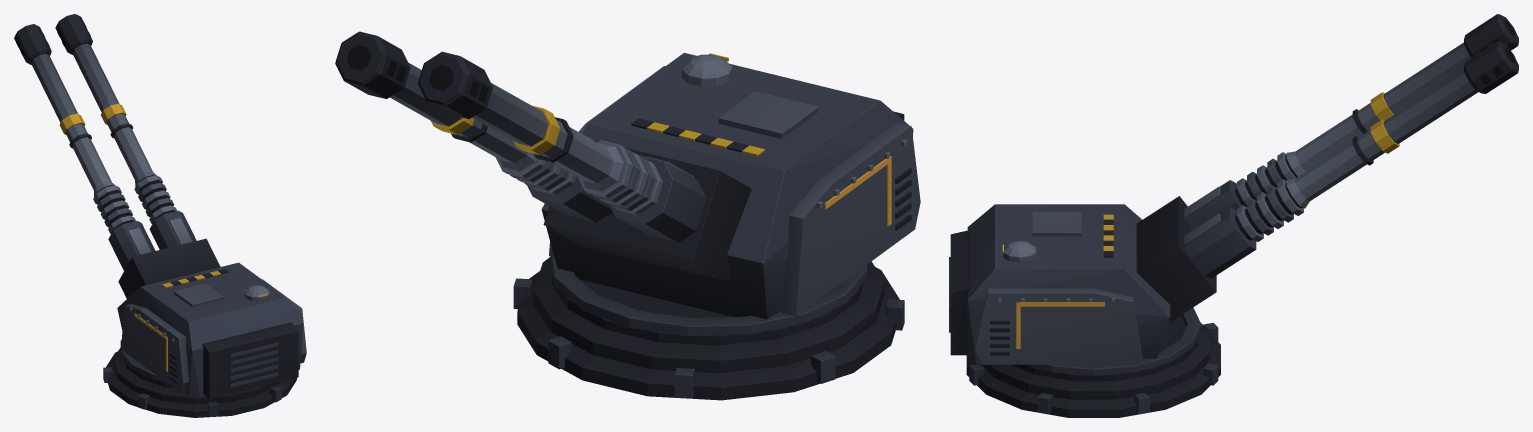
Rendered from citadel2.glb.
3 renders of one model, left to right at view 1: azimuth 30°, elevation 25°; view 2: azimuth 150°, elevation 25°; view 3: azimuth 270°, elevation 25°, orthographic. The views are drawn at different scales.
Parts seen in each view (by area): view 1: deck_gun_body; view 2: deck_gun_body, deck_gun_glow; view 3: deck_gun_body, deck_gun_glow.
Part boxes in pixels (x1,y1,x2,y2): deck_gun_body: (14,14,306,417); deck_gun_body: (335,31,920,400); deck_gun_glow: (709,53,891,226); deck_gun_body: (949,14,1518,417); deck_gun_glow: (1002,244,1104,348).
Bounding box in the file's own units: 20.59 × 32.51 × 46.12.
